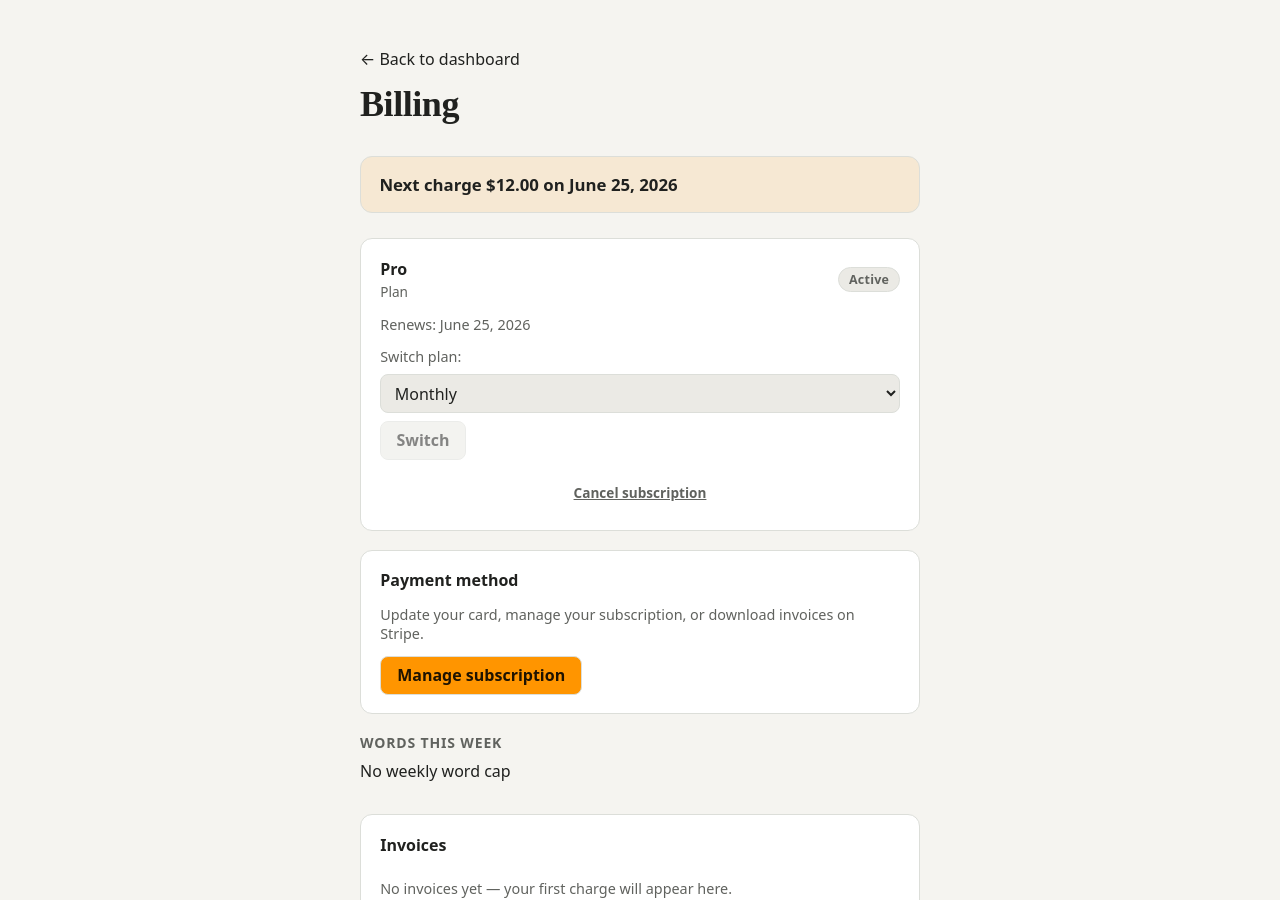
it: BillingDashboard › cancels active pro subscriptions after an inline confirmation
The width and height of the screenshot is (1280, 900).
Click the button "Cancel subscription" at x=640, y=492, box [380,473,900,511]
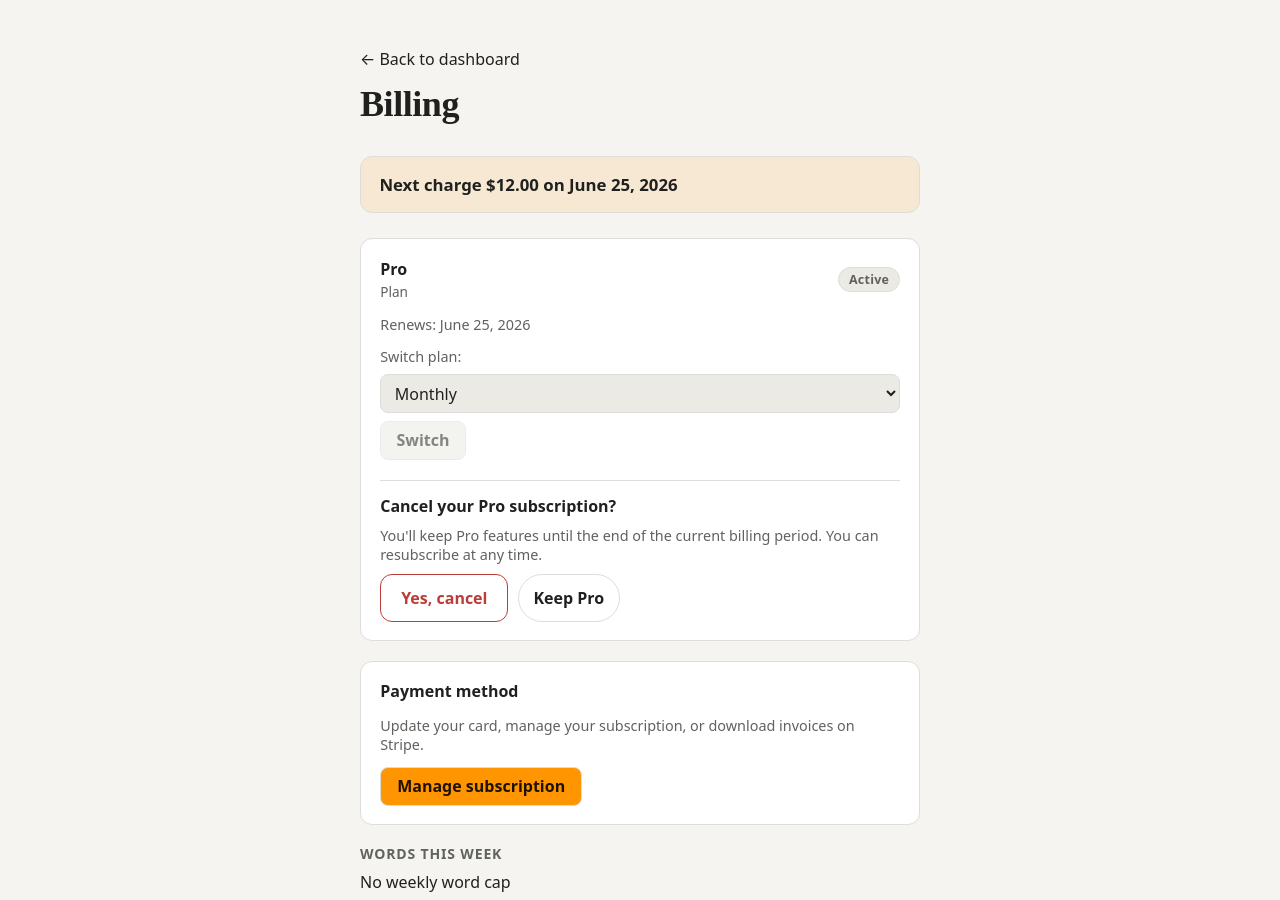
Expected: the heading "Cancel your Pro subscription?" is shown, [380,495,616,517]
Click the button "Yes, cancel" at x=444, y=598, box [380,574,508,622]
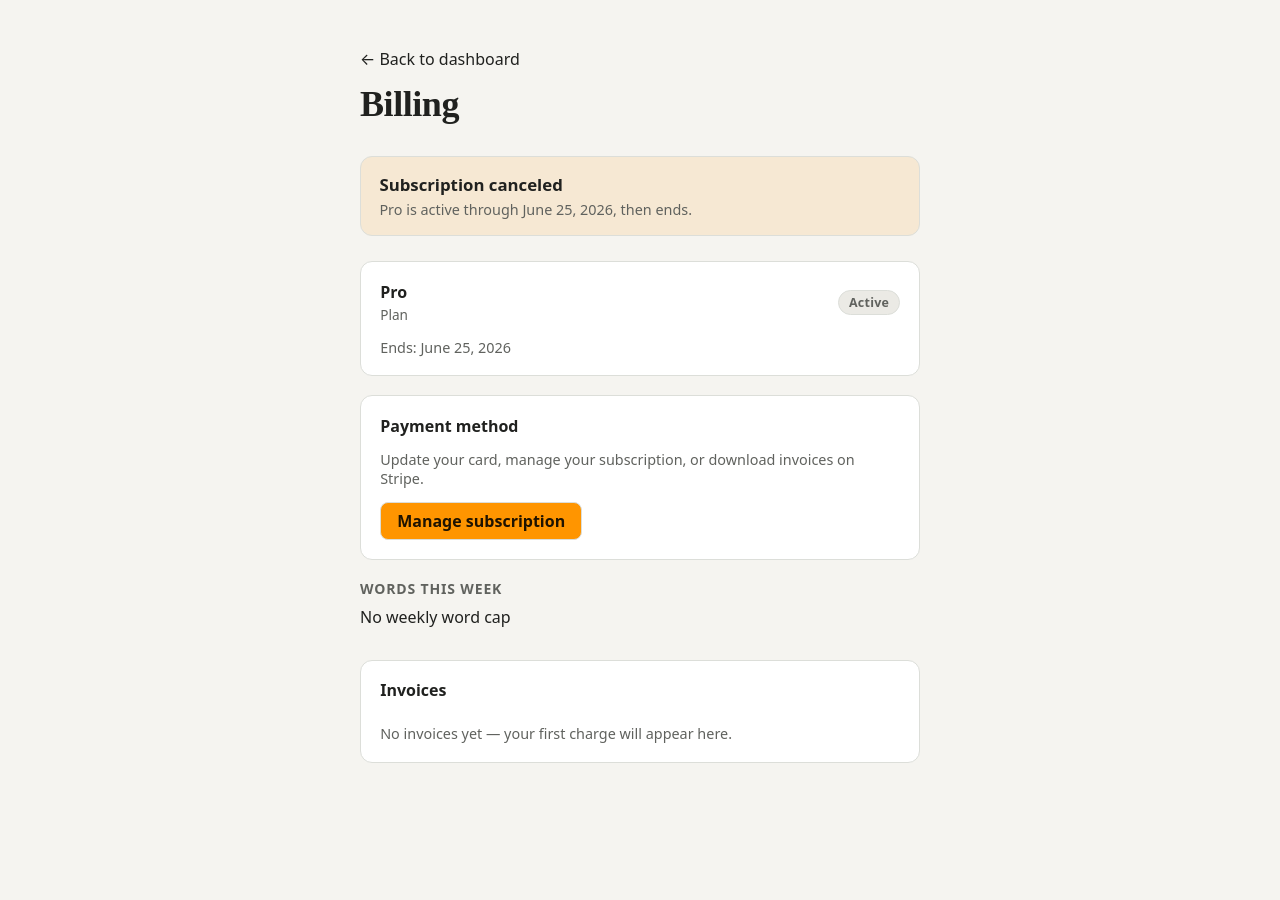
Expected: the text "Pro is active through June 25, 2026, then ends." is shown, [379,200,692,219]
